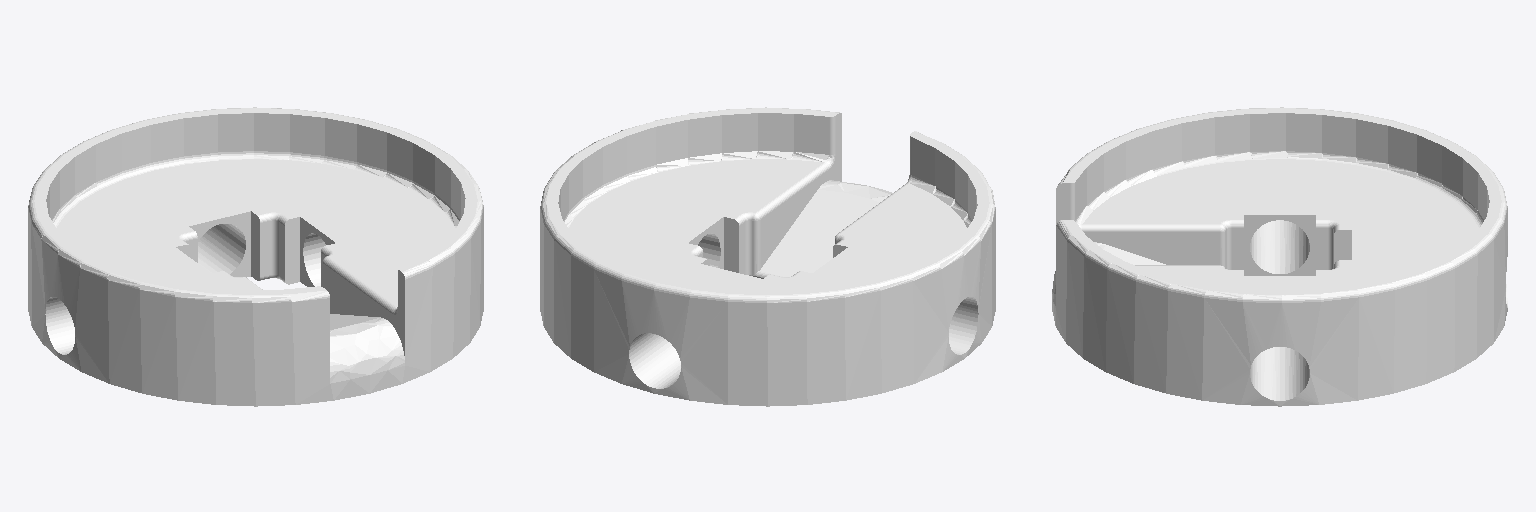
File: PanoColiasOldHolder.obj
3 renders of one model, left to right at view 1: azimuth 30°, elevation 25°; view 2: azimuth 150°, elevation 25°; view 3: azimuth 270°, elevation 25°, orthographic.
Parts seen in each view (by area): view 1: ʣбͷ֧¼ڀ; view 2: ʣбͷ֧¼ڀ; view 3: ʣбͷ֧¼ڀ.
Boxes of the visible parts, x1,y1,x2,y2 form: ʣбͷ֧¼ڀ: [28, 107, 483, 406]; ʣбͷ֧¼ڀ: [540, 107, 995, 406]; ʣбͷ֧¼ڀ: [1052, 107, 1507, 406].
Size of the model in its own units: 0.038 by 0.01 by 0.038.